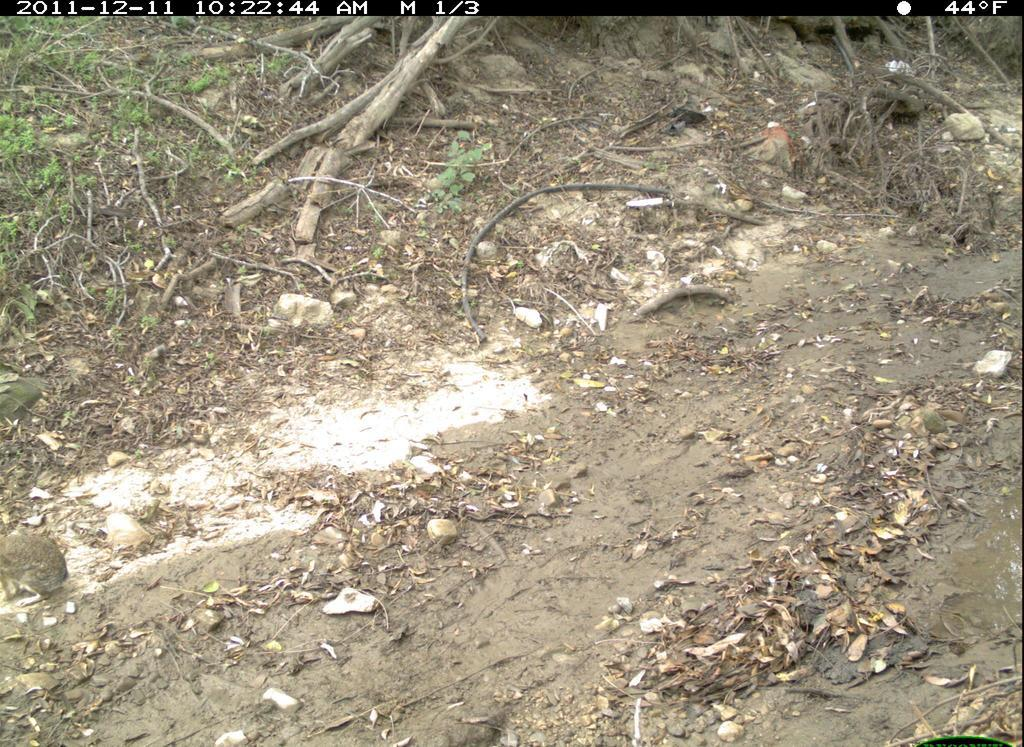rabbit: (4, 514, 77, 625)
